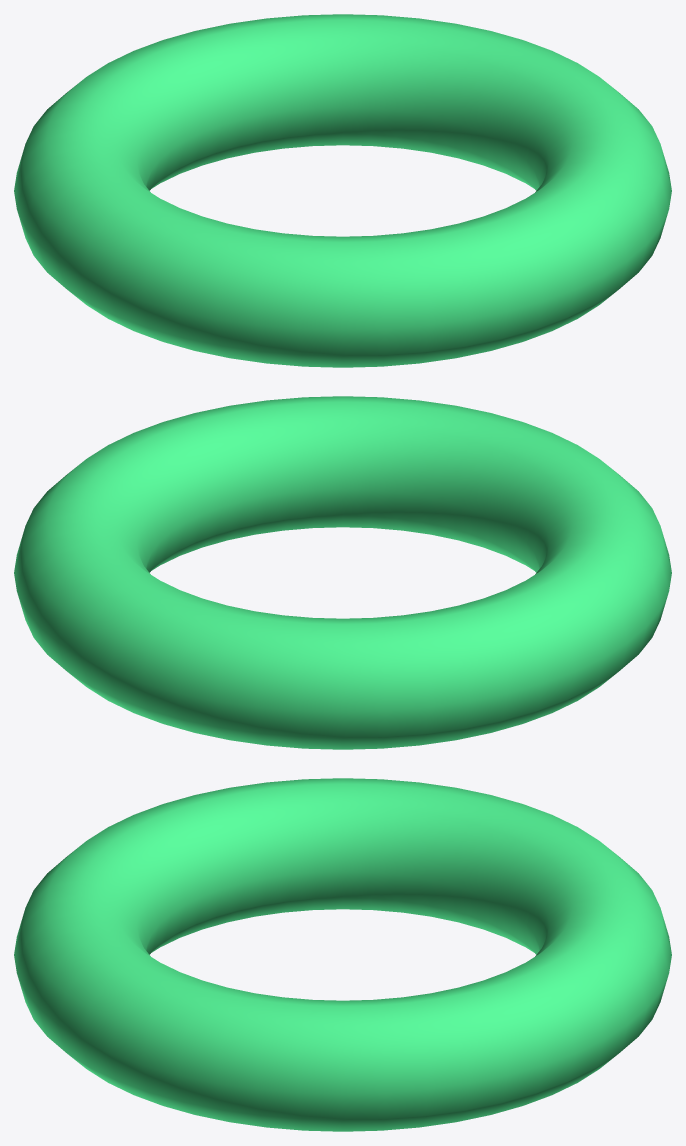
3 renders of one model, top to bottom at view 1: azimuth 30°, elevation 25°; view 2: azimuth 150°, elevation 25°; view 3: azimuth 270°, elevation 25°, orthographic.
Visible parts, largest first — view 1: Torus; view 2: Torus; view 3: Torus.
Boxes of the visible parts, x1=… form: Torus: x1=14, y1=14, x2=671, y2=367; Torus: x1=14, y1=396, x2=671, y2=749; Torus: x1=14, y1=778, x2=671, y2=1131.
Bounding box in the file's own units: 2.5 × 0.5 × 2.5.
